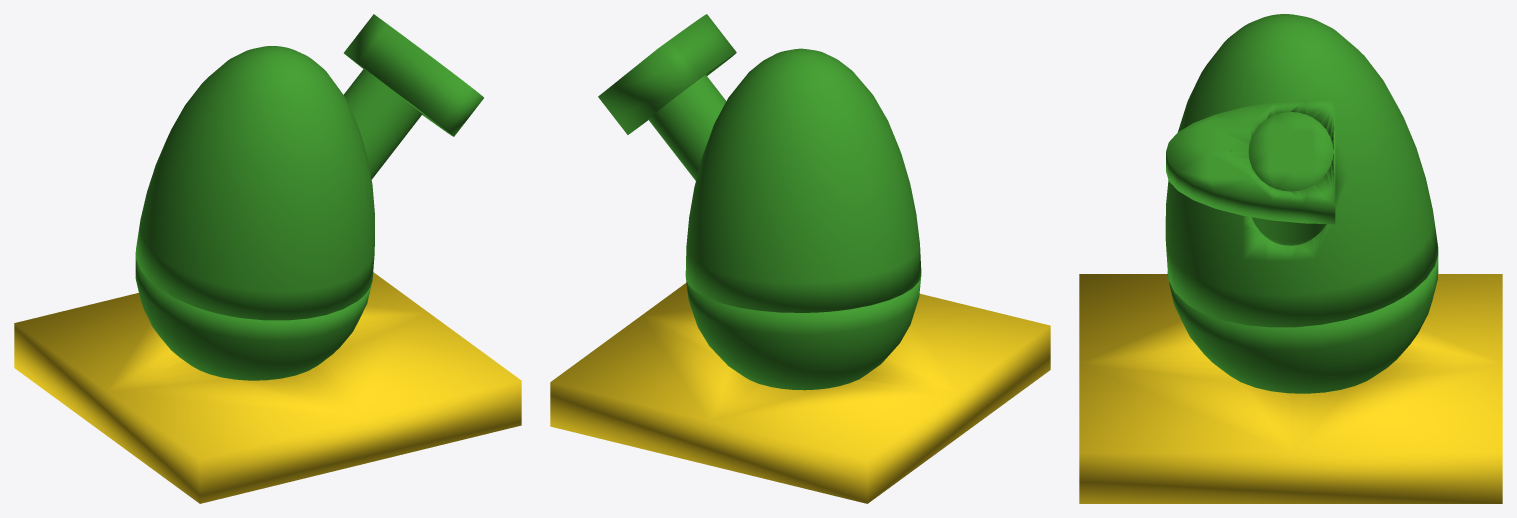
The model's file is egg_5.glb.
The picture shows the model from 3 angles, left to right: view 1: azimuth 30°, elevation 25°; view 2: azimuth 150°, elevation 25°; view 3: azimuth 270°, elevation 25°; orthographic projection. The views are drawn at different scales.
Parts seen in each view (by area): view 1: figura, basetta; view 2: figura, basetta; view 3: figura, basetta.
Part boxes in pixels (x1,y1,x2,y2): figura: (135,14,483,380); basetta: (14,272,521,503); figura: (598,14,921,390); basetta: (550,283,1050,503); figura: (1165,14,1438,393); basetta: (1079,274,1502,503).
Bounding box in the file's own units: 0.0162 × 0.0154 × 0.015.
